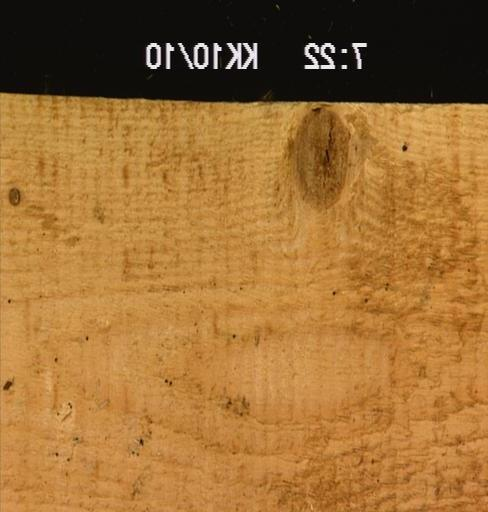dry_knot: (7, 185, 22, 206)
sound_knot: (291, 104, 354, 211)
